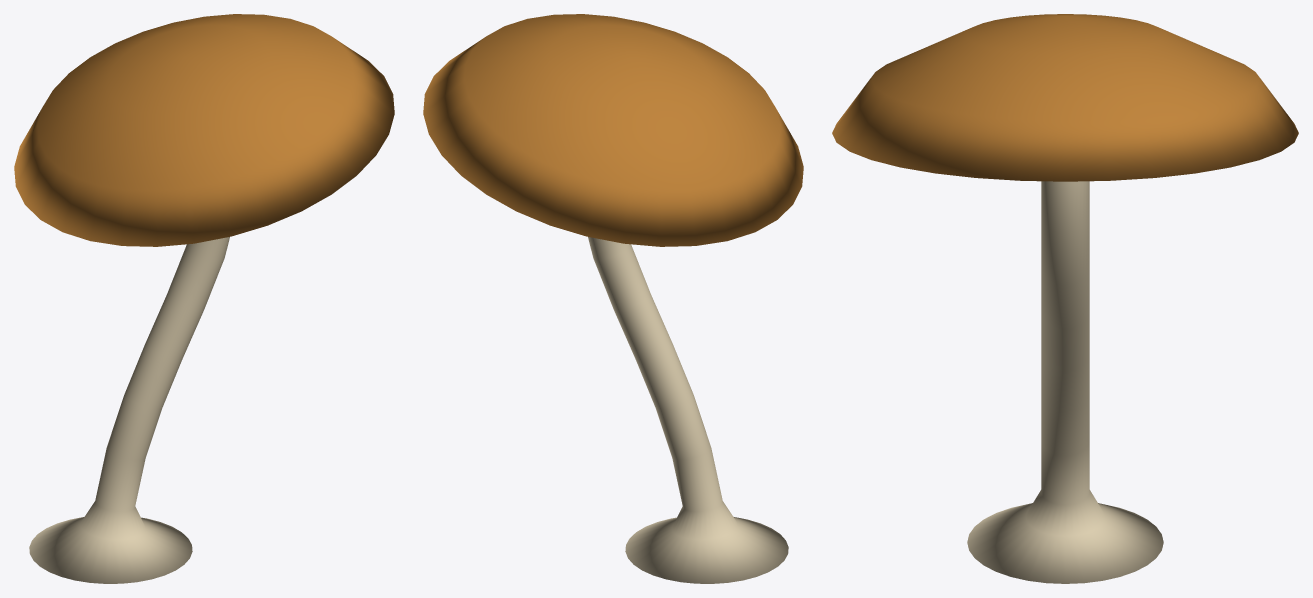
Rendered from champignon003.fbx.
3 renders of one model, left to right at view 1: azimuth 30°, elevation 25°; view 2: azimuth 150°, elevation 25°; view 3: azimuth 270°, elevation 25°, orthographic. The views are drawn at different scales.
Visible parts, largest first — view 1: Cone; view 2: Cone; view 3: Cone.
Boxes of the visible parts, x1,y1,x2,y2 form: Cone: (14,14,394,583); Cone: (423,14,803,583); Cone: (832,14,1298,583).
Size of the model in its own units: 39.02 by 54.19 by 40.
